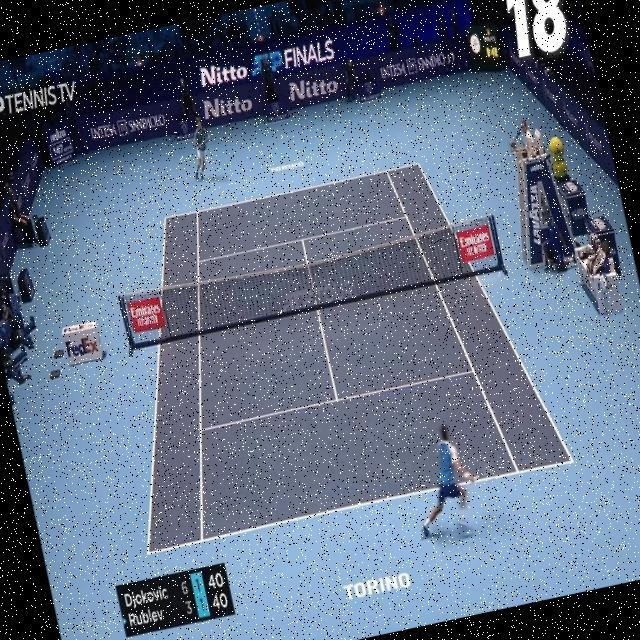court: (78, 144, 575, 554)
net: (115, 212, 505, 350)
player: (400, 414, 508, 542)
